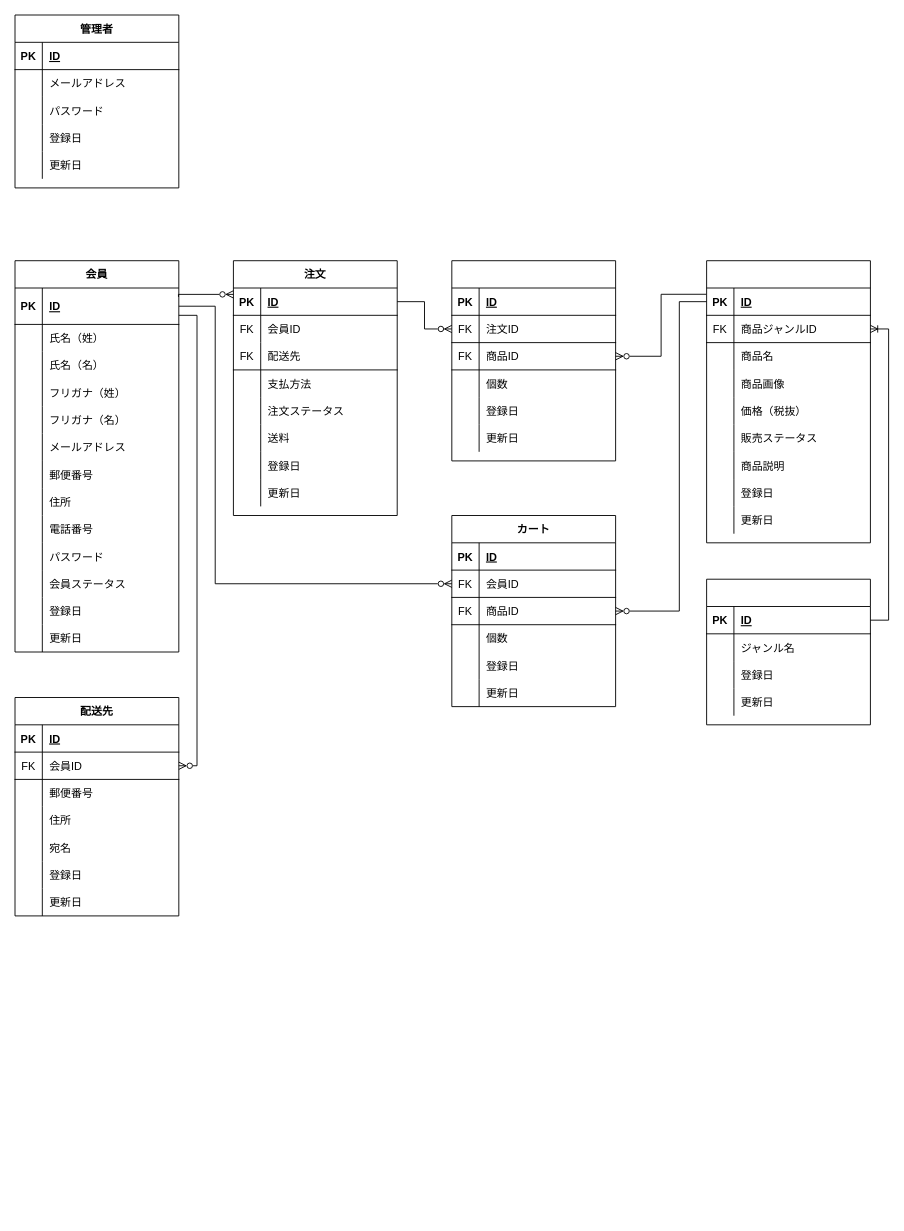
Some shapes in this 904 by 1231 pixel diagram are drawn without their labels. Each missing label, with the box of its shape:
商品: (706, 260, 870, 543)
商品ジャンル: (706, 578, 870, 725)
注文商品: (451, 260, 616, 461)
